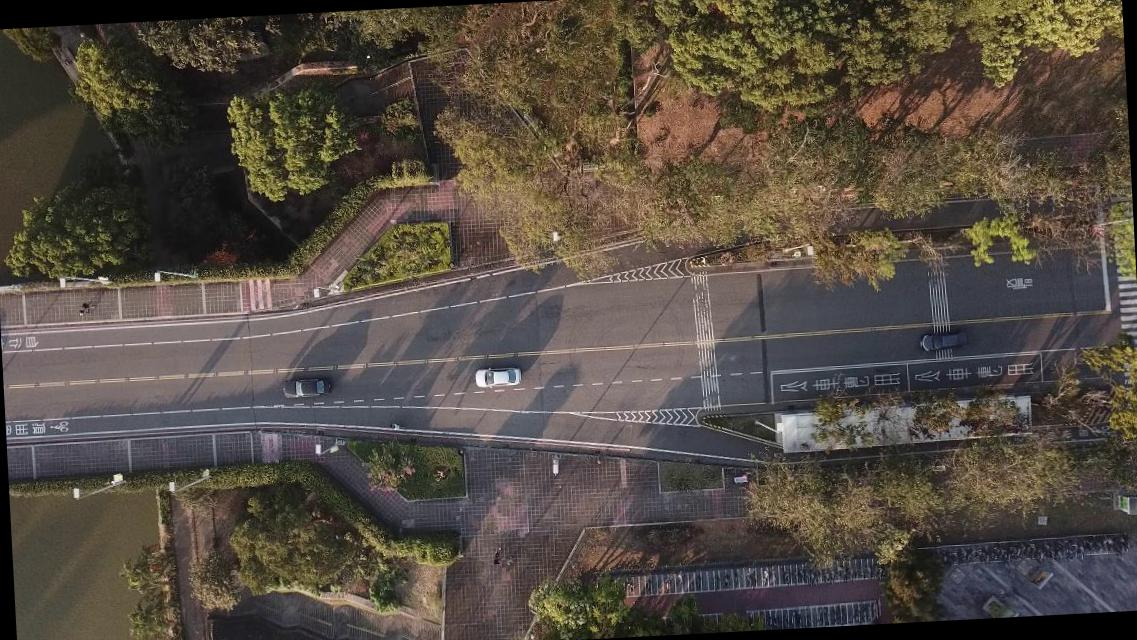vehicle: (280, 376, 330, 402), (918, 331, 966, 354), (474, 366, 522, 389)
